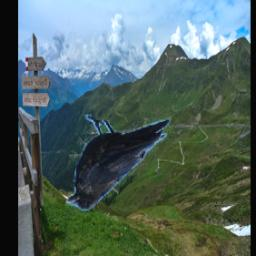Crow: (64, 115, 171, 212)
